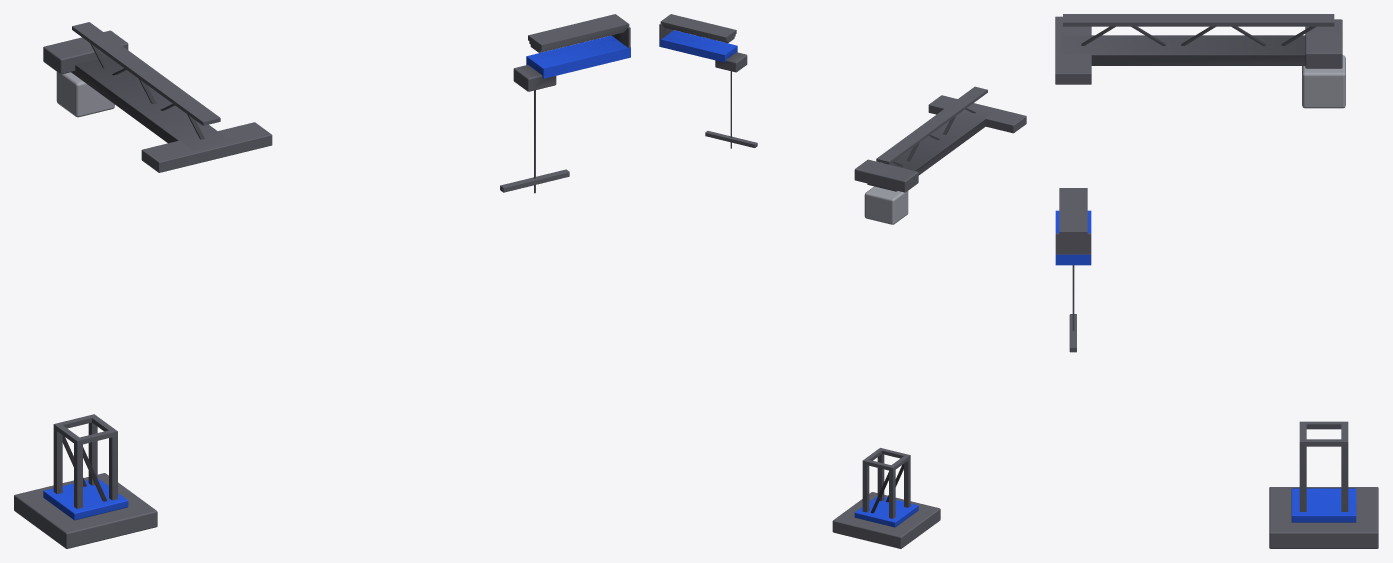
File: ida-crane.glb
3 renders of one model, left to right at view 1: azimuth 30°, elevation 25°; view 2: azimuth 150°, elevation 25°; view 3: azimuth 270°, elevation 25°, orthographic. The views are drawn at different scales.
Parts seen in each view (by area): view 1: Metal (×5), Accent (×2), Glass; view 2: Metal (×5), Accent (×2), Glass; view 3: Metal (×6), Accent (×2), Glass.
Boxes of the visible parts, x1,y1,x2,y2 form: Metal (×5): (14, 14, 630, 548); Accent (×2): (43, 35, 630, 520); Glass: (56, 72, 114, 117); Metal (×5): (659, 14, 1026, 548); Accent (×2): (659, 30, 918, 527); Glass: (864, 186, 908, 224); Metal (×6): (1055, 14, 1378, 548); Accent (×2): (1055, 210, 1356, 522); Glass: (1302, 55, 1345, 108).
Bounding box in the file's own units: 5.4 × 5.37 × 3.1.
